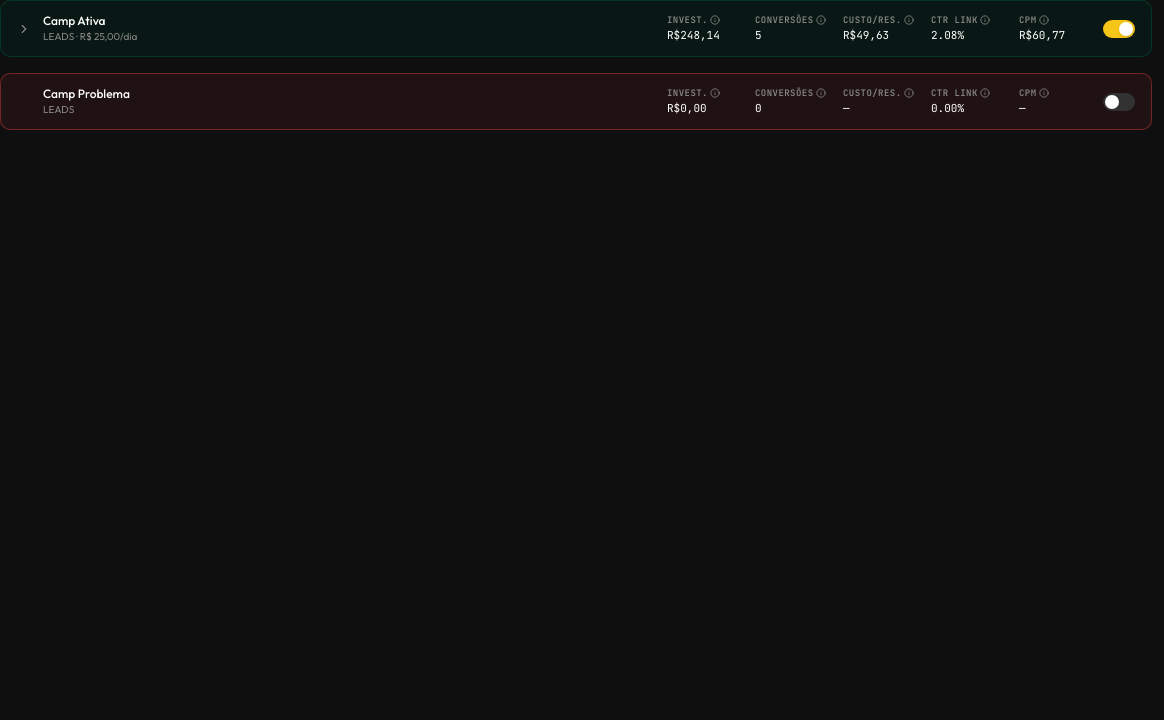
it: CampaignTree › aceita labels custom e resultsLabel (Google)
The image size is (1164, 720).
What coordinates should you click on to do the following:
click the button named "expandir Camp Ativa"
I would click on:
 (24, 28)
Its box is [17,22,31,36].
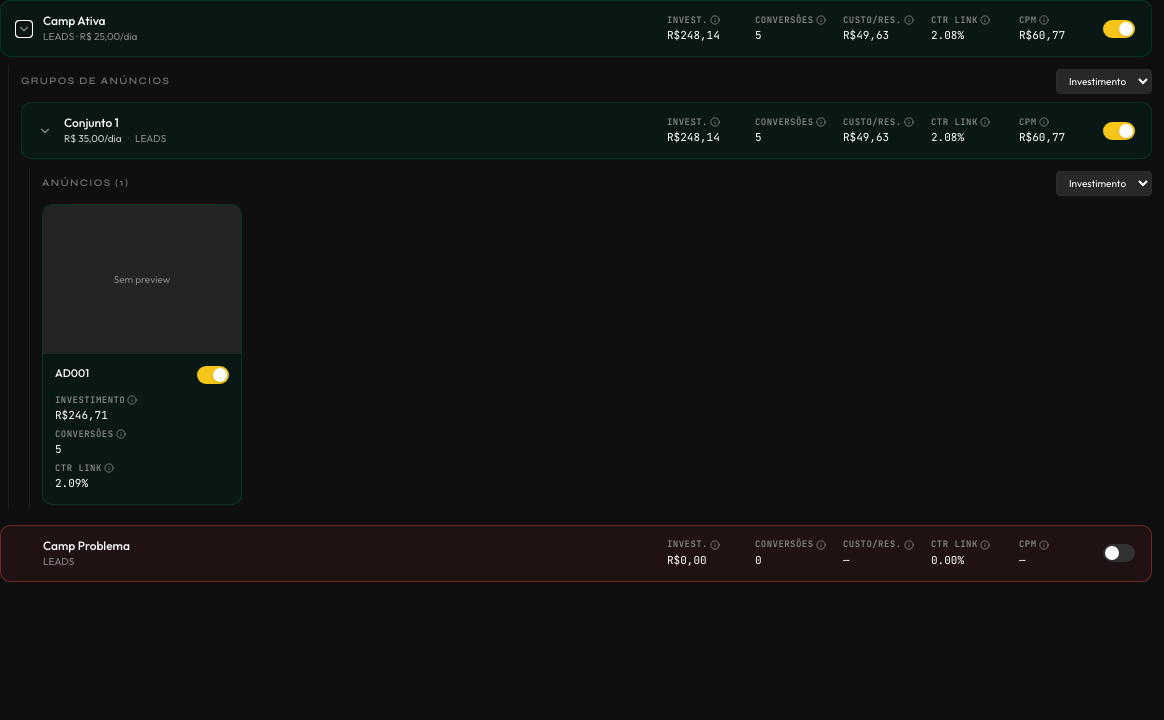
Expected: the text "Conversões" in the row of "Camp Ativa" is shown, [755,14,814,26]
Expected: the text "Grupos de anúncios" is shown, [21,74,170,89]
